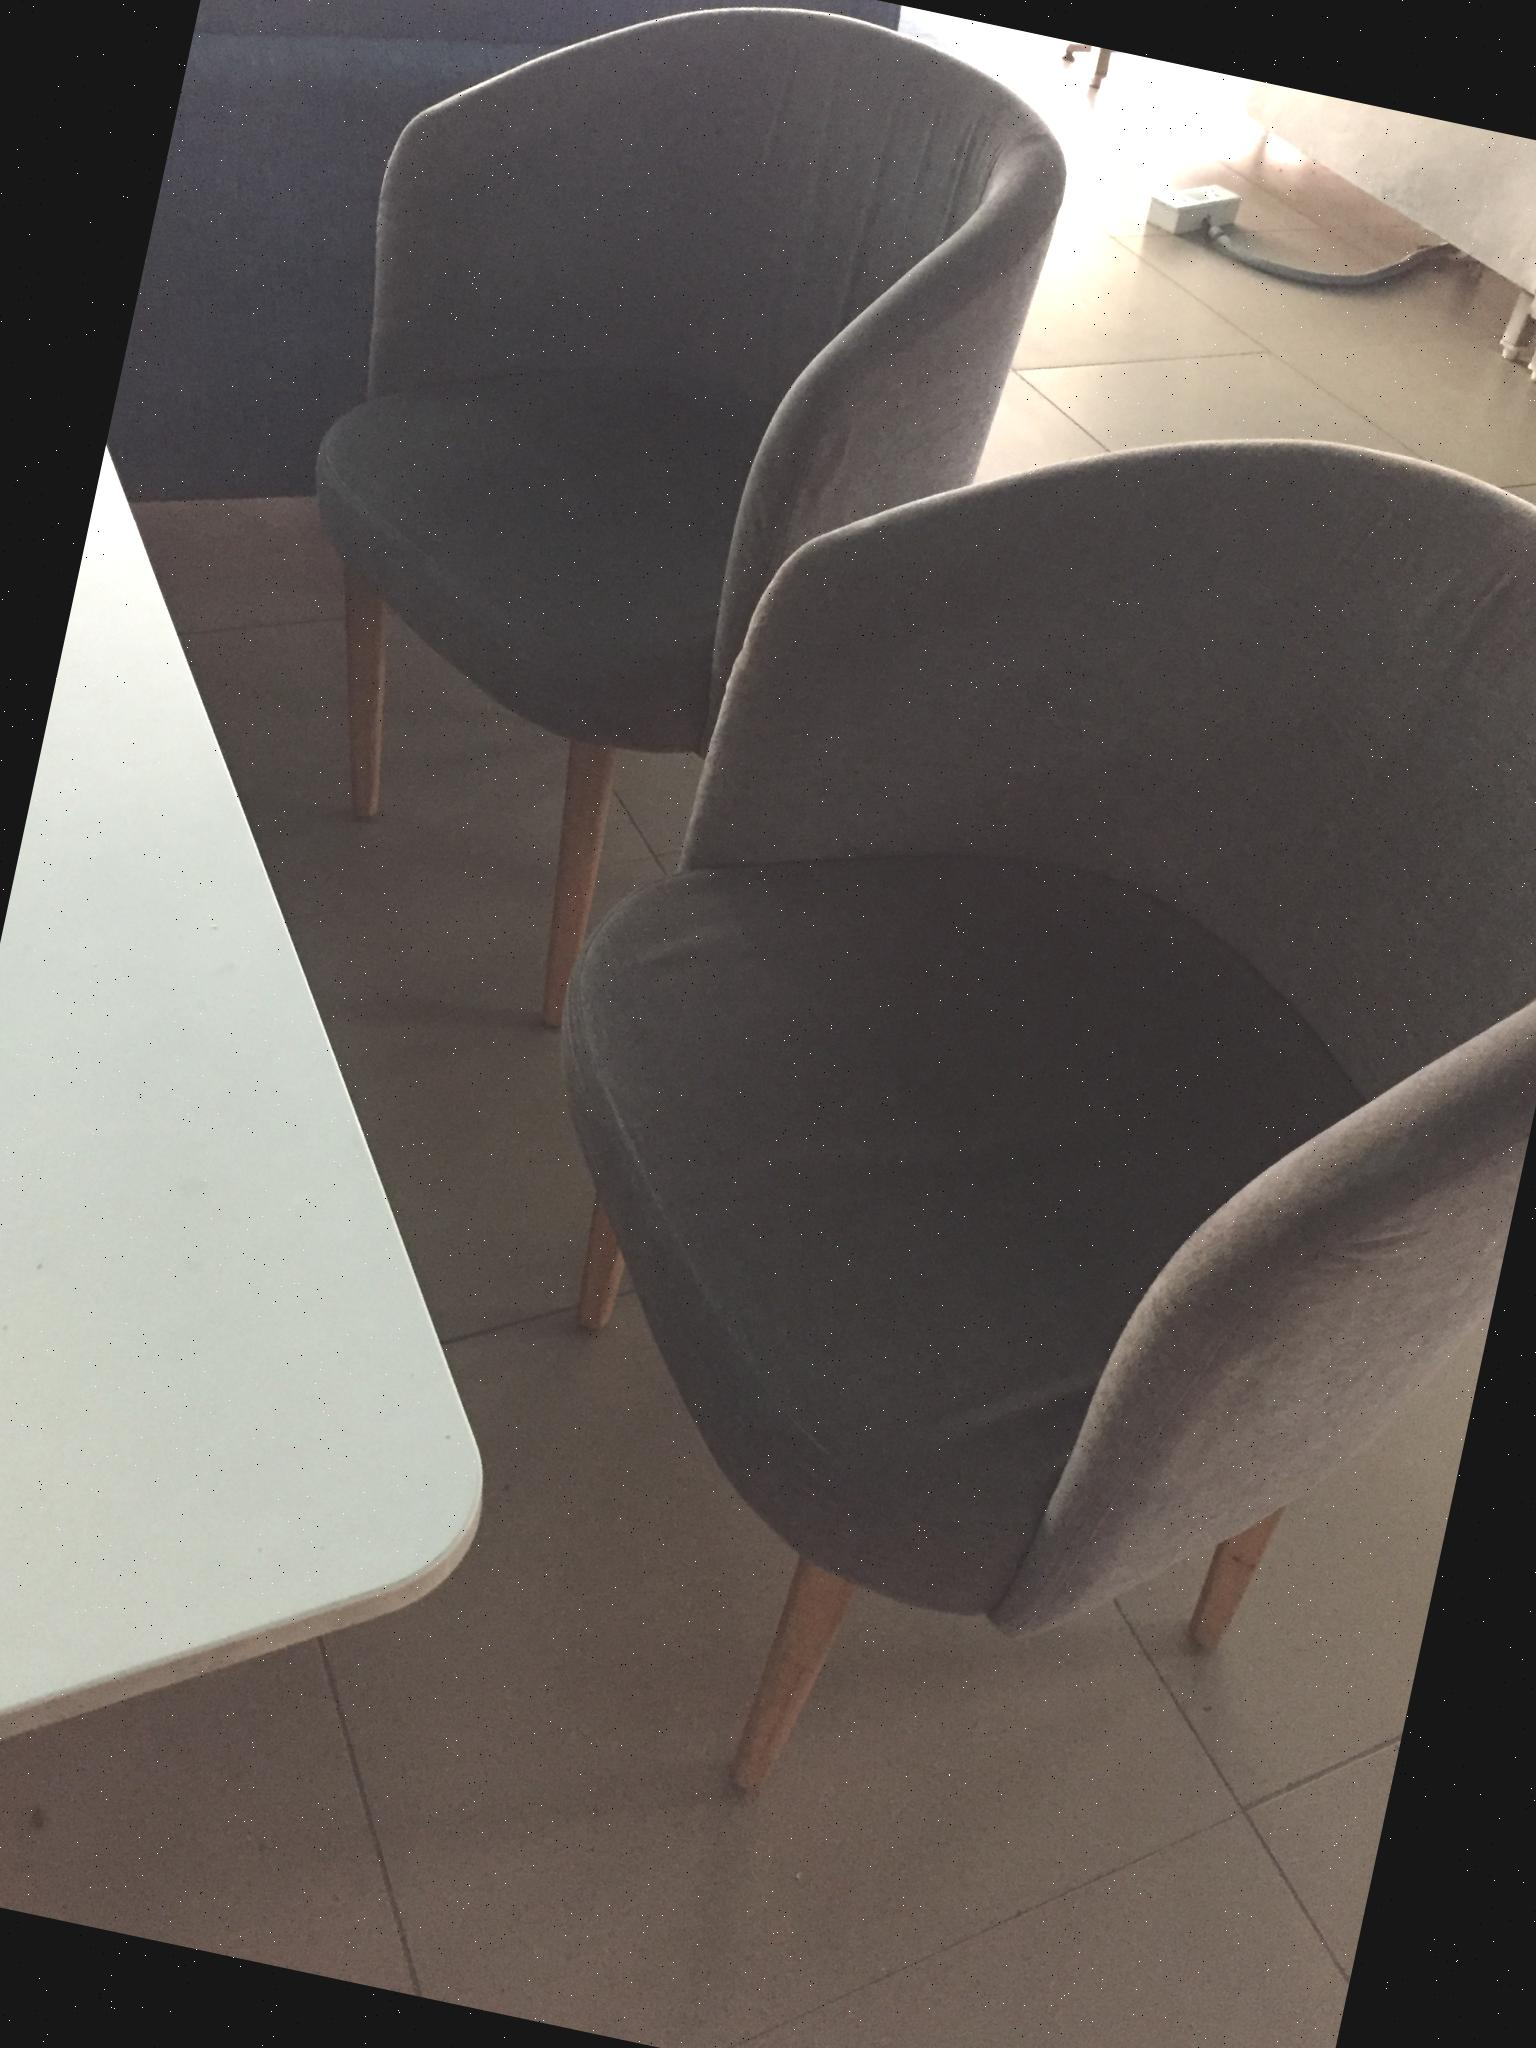chair: (410, 305, 1536, 1927), (208, 0, 1091, 1097), (89, 0, 682, 631)
